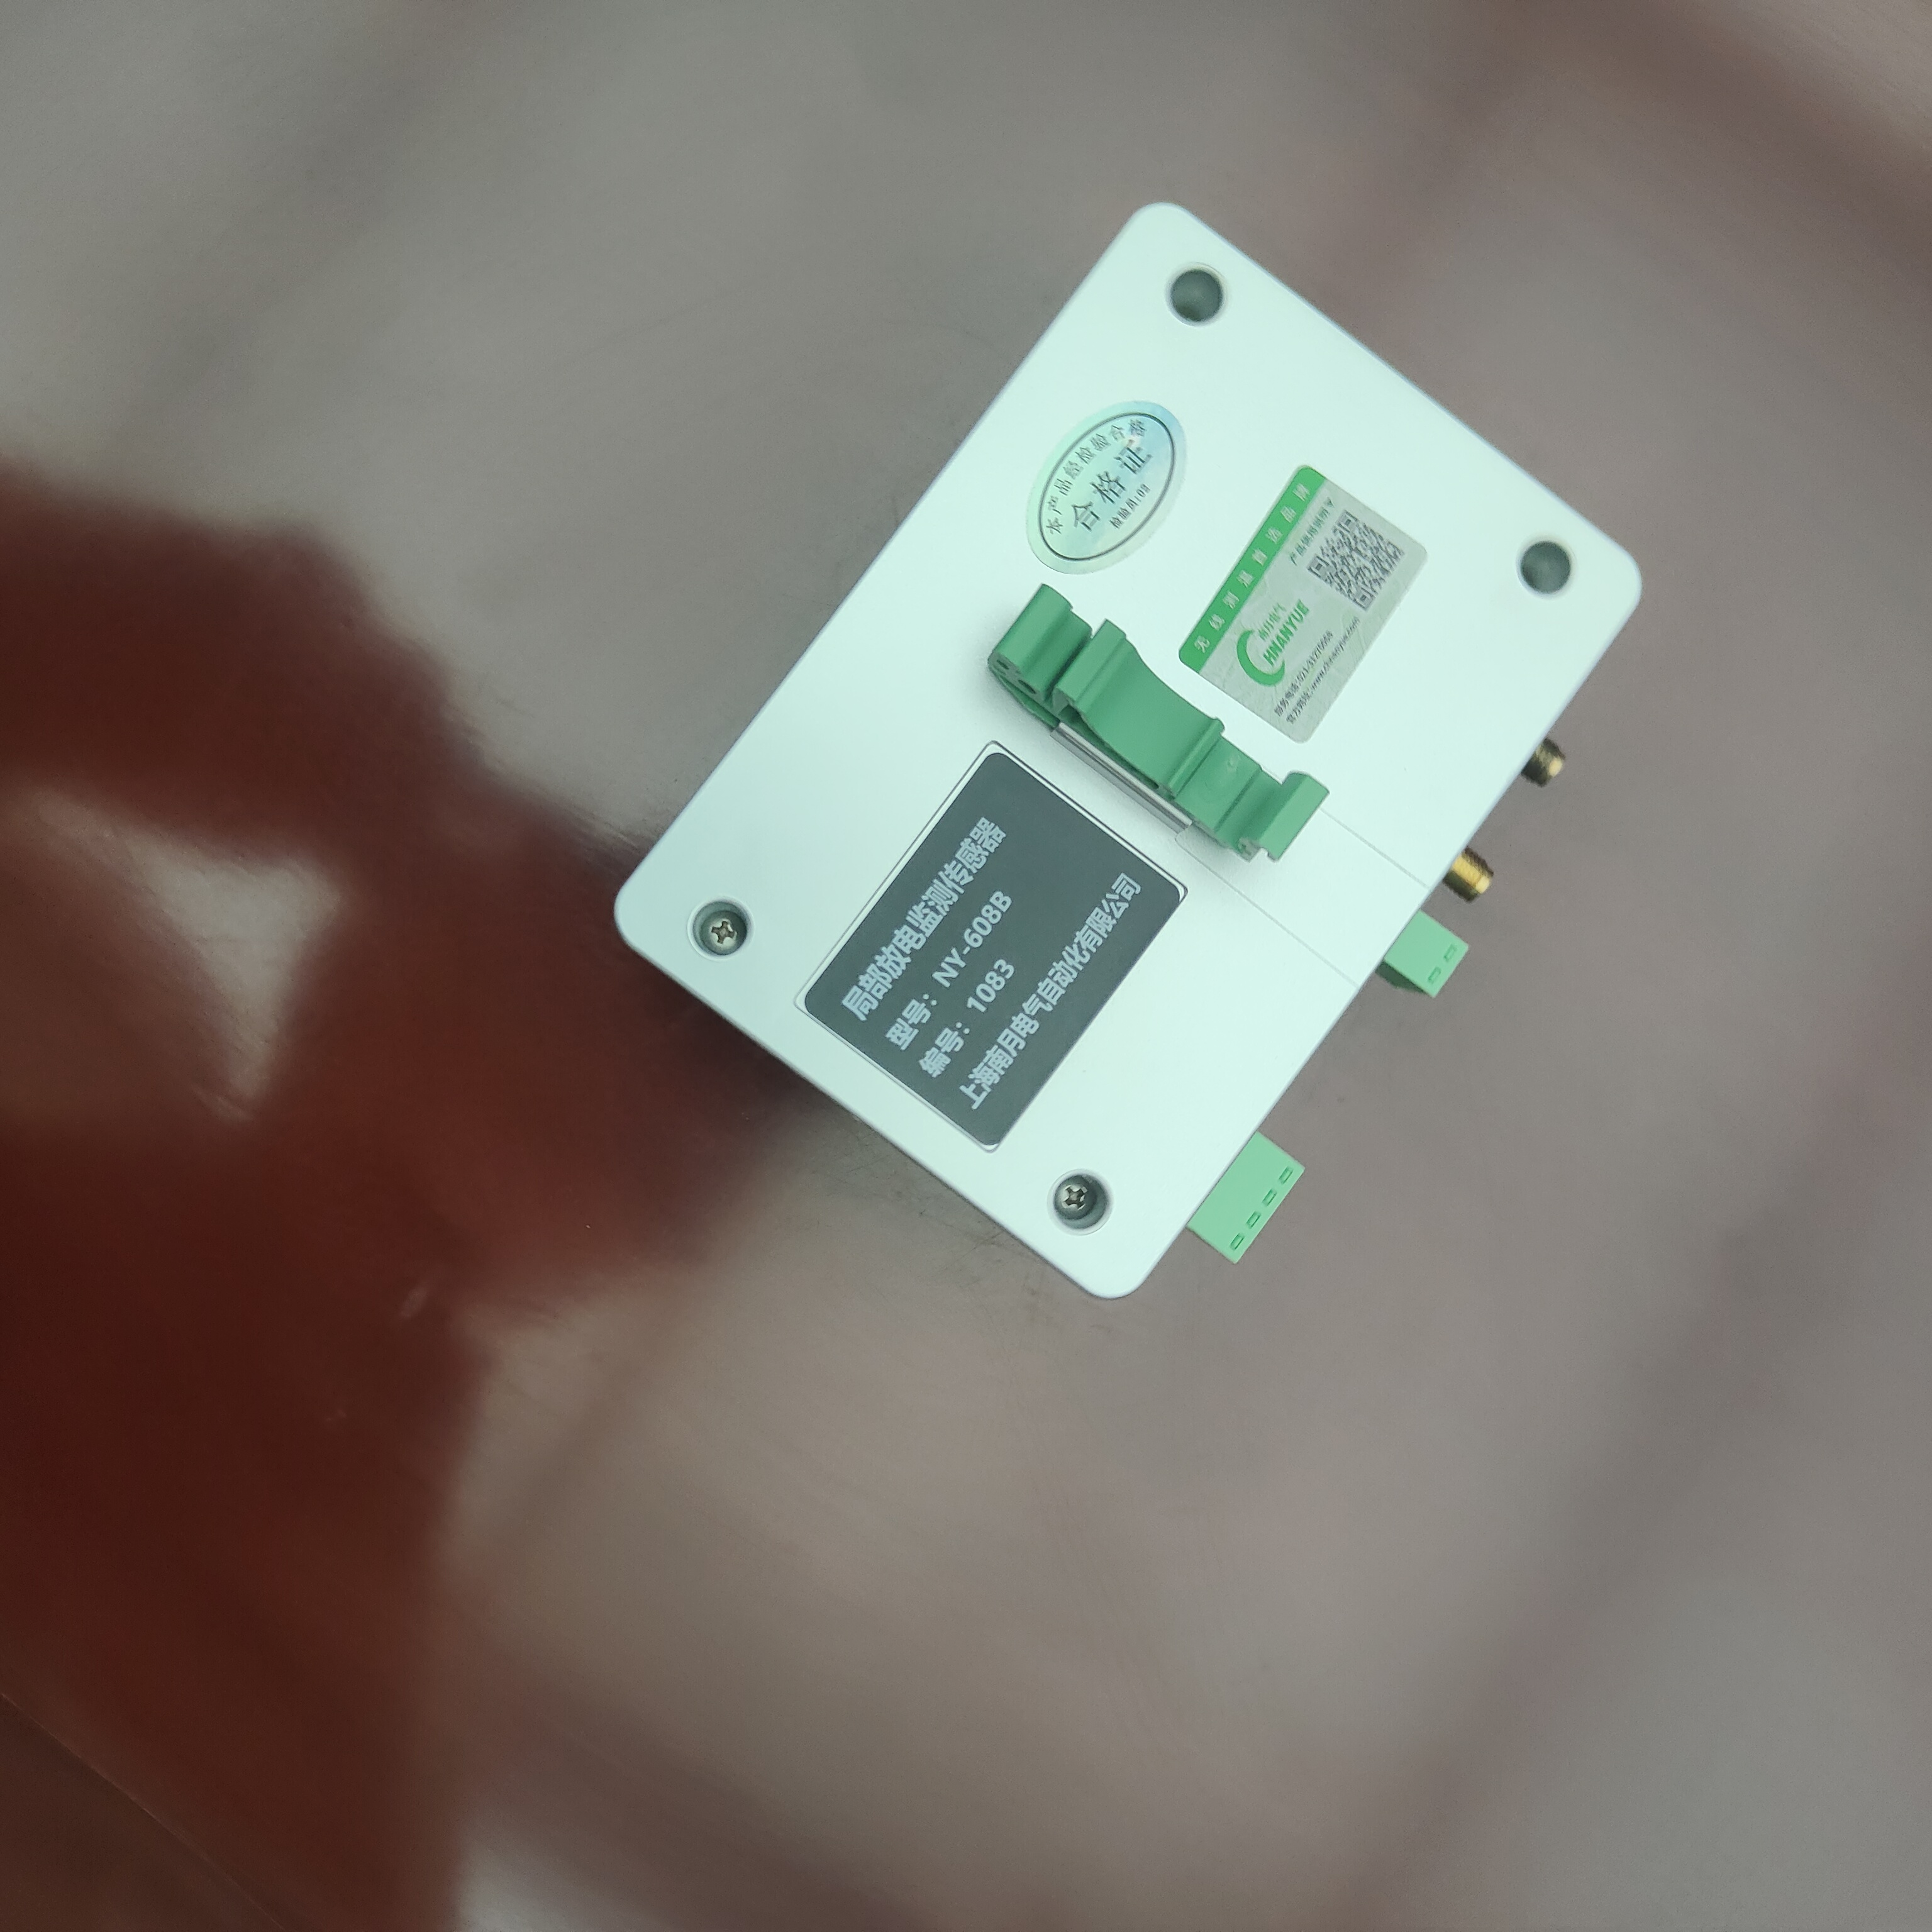jbfdjc: (594, 195, 1645, 1316)
